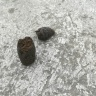Dog: (16, 38, 34, 64), (38, 29, 52, 39)
